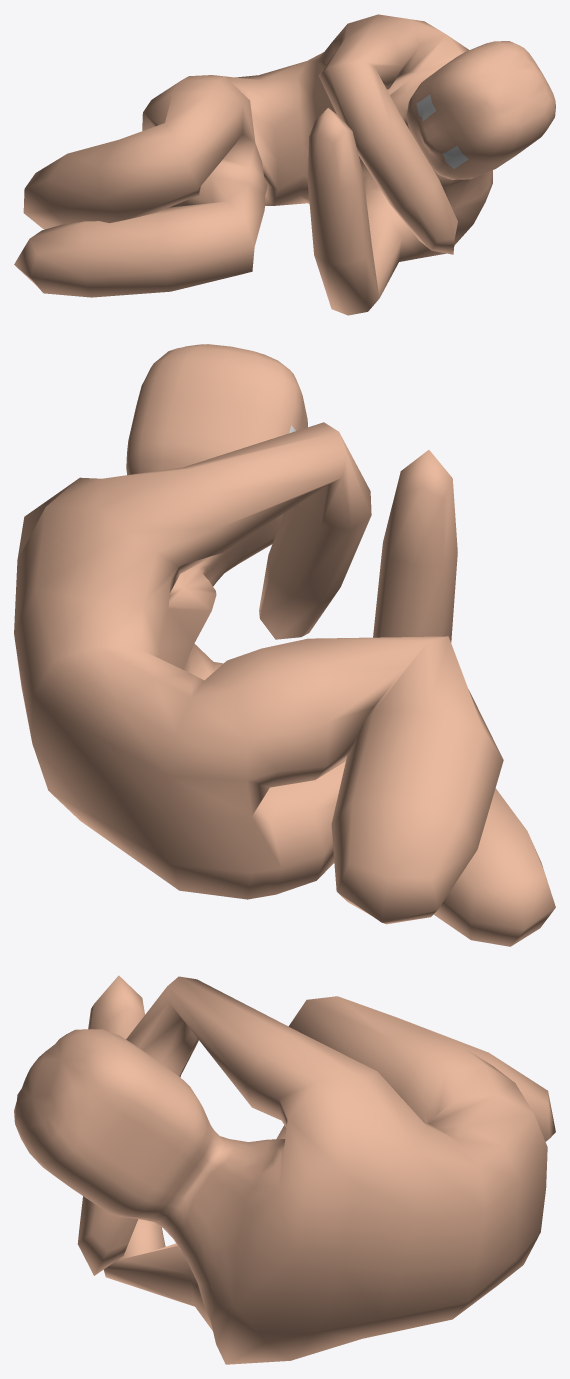
File: Bloc Destructible Cage Humain 5.fbx
The picture shows the model from 3 angles, top to bottom: view 1: azimuth 30°, elevation 25°; view 2: azimuth 150°, elevation 25°; view 3: azimuth 270°, elevation 25°; orthographic projection. The views are drawn at different scales.
Visible parts, largest first — view 1: corps; view 2: corps; view 3: corps.
Boxes of the visible parts, x1=… form: corps: x1=14, y1=14, x2=555, y2=315; corps: x1=14, y1=344, x2=555, y2=946; corps: x1=14, y1=975, x2=555, y2=1364.
Size of the model in its own units: 140 by 82.16 by 120.
